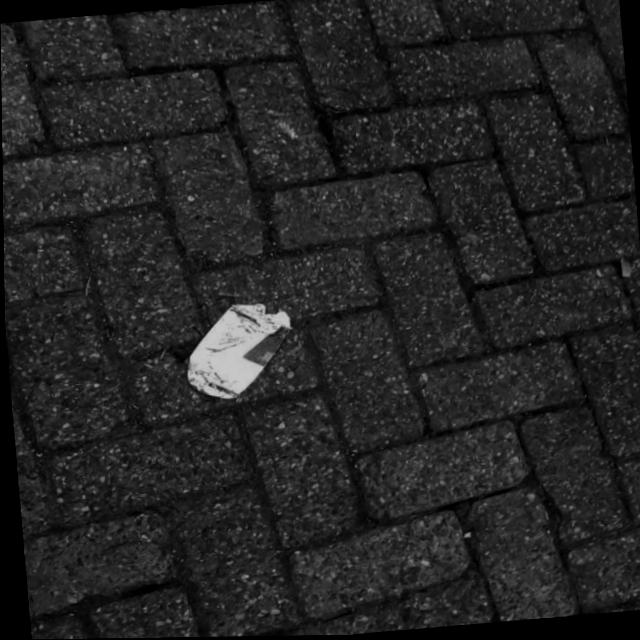Can-Metal: (176, 297, 299, 404)
Cup: (363, 104, 453, 189)
